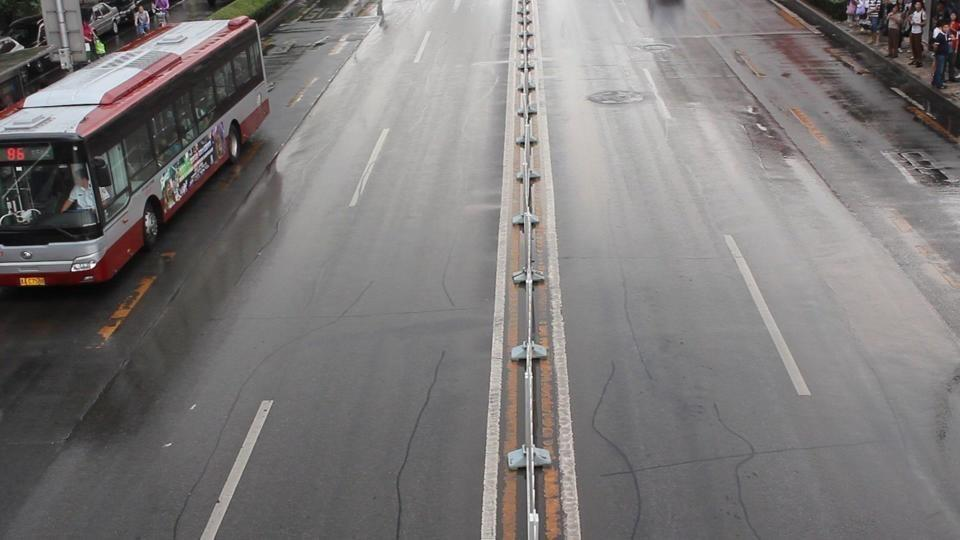car: (0, 14, 46, 54)
